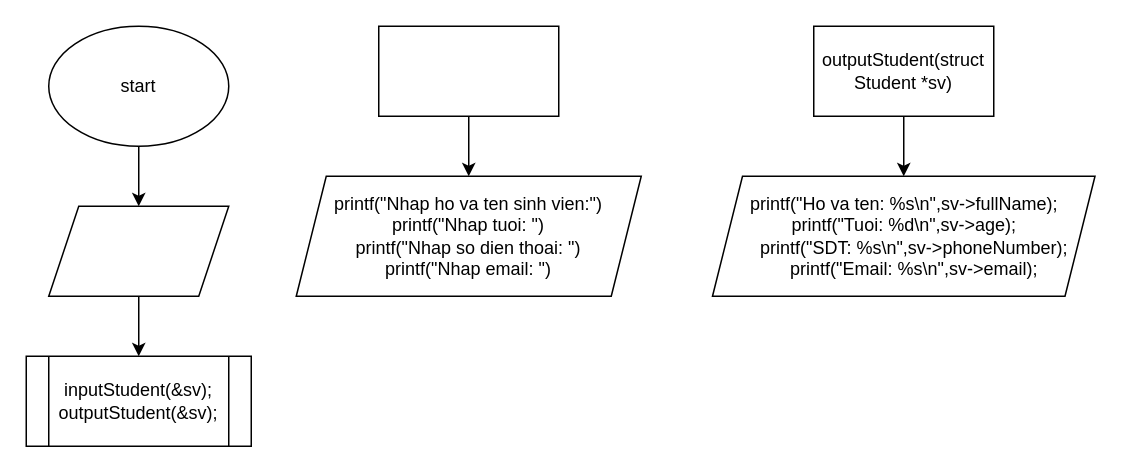
The diagram is 1122 pixels wide and 473 high, and some of its shapes have lost their labels. The shapes that lost their labels are listed below. From the top down, each one's centre as x and y in pixels, then its label:
At (x=468, y=70): "inputStudent(struct Student *sv)".
At (x=138, y=250): "struct Student sv".
